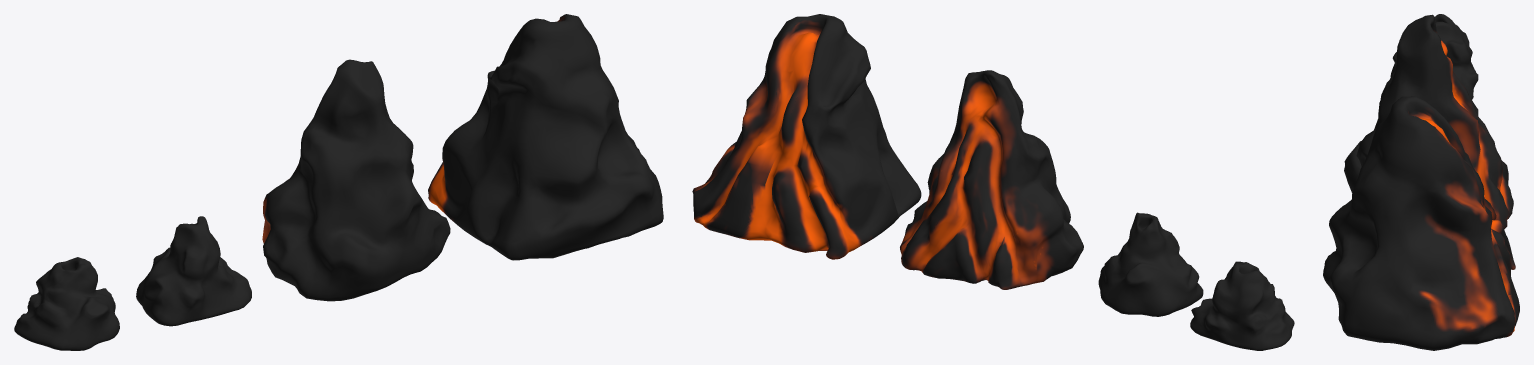
Rendered from volcano_final.fbx.
The picture shows the model from 3 angles, left to right: view 1: azimuth 30°, elevation 25°; view 2: azimuth 150°, elevation 25°; view 3: azimuth 270°, elevation 25°; orthographic projection. The views are drawn at different scales.
Parts seen in each view (by area): view 1: Volcano_1, Volcano_2, Volcano_small_1, Volcano_small_2; view 2: Volcano_1, Volcano_2, Volcano_small_1, Volcano_small_2; view 3: Volcano_1, Volcano_2, Volcano_small_2.
Boxes of the visible parts, box(x1,y1,x2,y2) form: Volcano_1: box(428, 14, 663, 260); Volcano_2: box(262, 59, 450, 301); Volcano_small_1: box(136, 216, 251, 326); Volcano_small_2: box(14, 257, 119, 350); Volcano_1: box(692, 14, 921, 259); Volcano_2: box(900, 70, 1083, 289); Volcano_small_1: box(1098, 212, 1203, 316); Volcano_small_2: box(1190, 261, 1294, 350); Volcano_1: box(1323, 96, 1519, 350); Volcano_2: box(1344, 14, 1513, 229); Volcano_small_2: box(1390, 14, 1478, 99).
Bounding box in the file's own units: 519 × 170 × 146.
